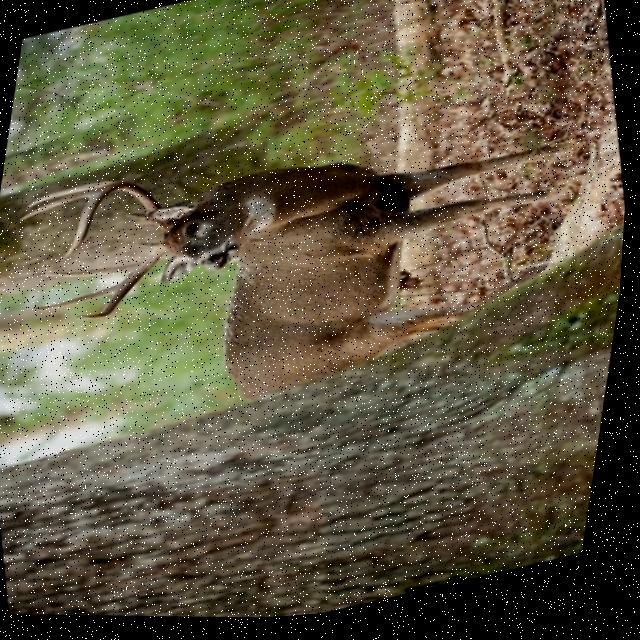L-G1: (126, 216, 152, 225)
L-G2: (25, 182, 118, 209)
L-G3: (19, 189, 103, 222)
R-F: (77, 245, 171, 321)
R-G1: (137, 245, 162, 252)
R-G2: (44, 265, 142, 278)
R-G3: (34, 286, 121, 312)
